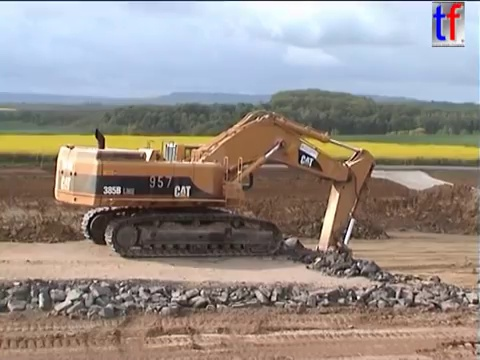excavator: (50, 107, 377, 296)
